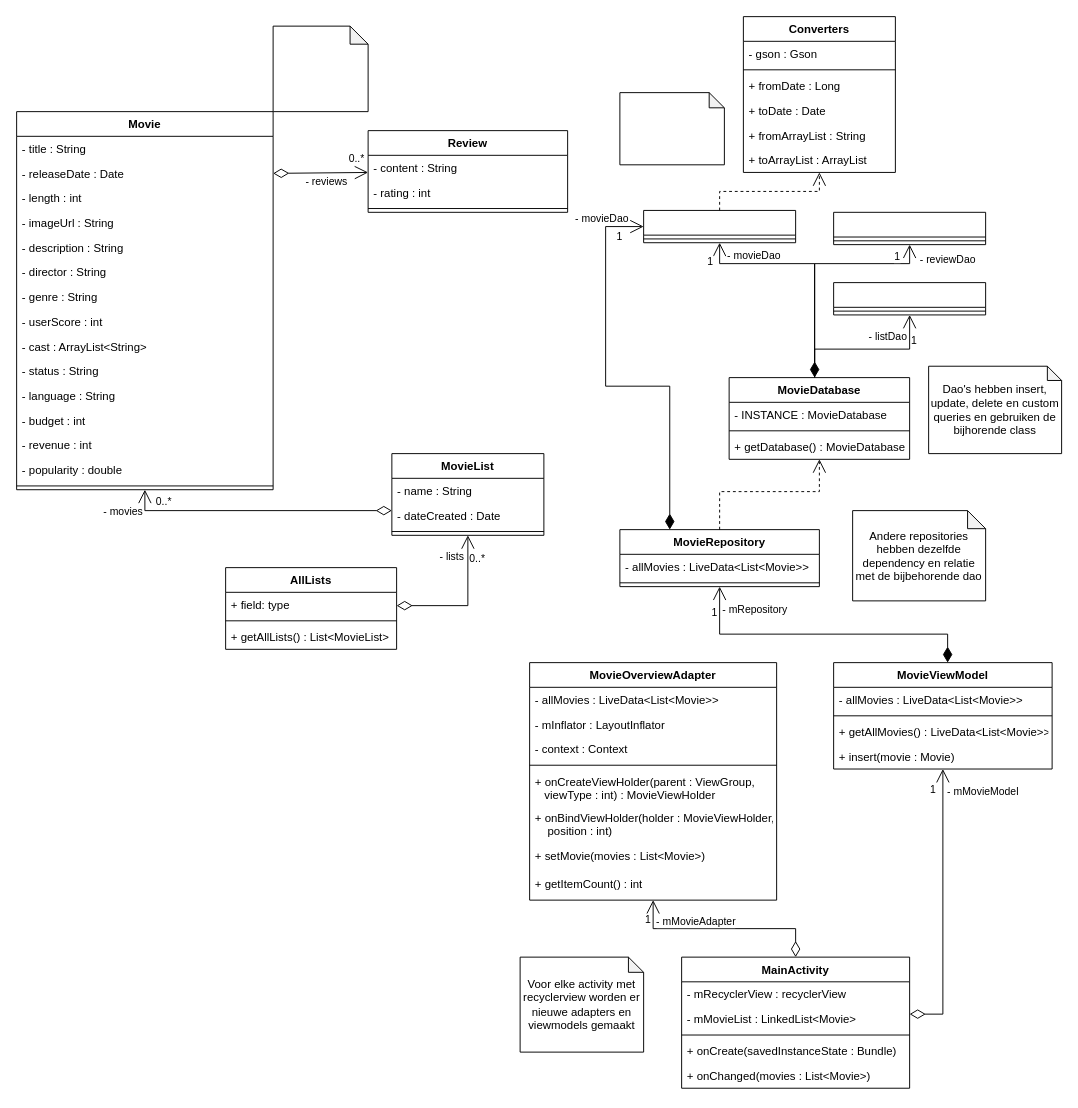
This 1078x1108 diagram has some shape labels left out. The centre of each missing label's shape, as x and y in pixels:
Andere dao's gebruiken de converters class waar nodig: point (671, 128)
Getters, setters en constructors toegevoegd waar nodig: point (320, 68)
ListDao: point (909, 298)
MovieDao: point (719, 226)
ReviewDao: point (909, 228)
